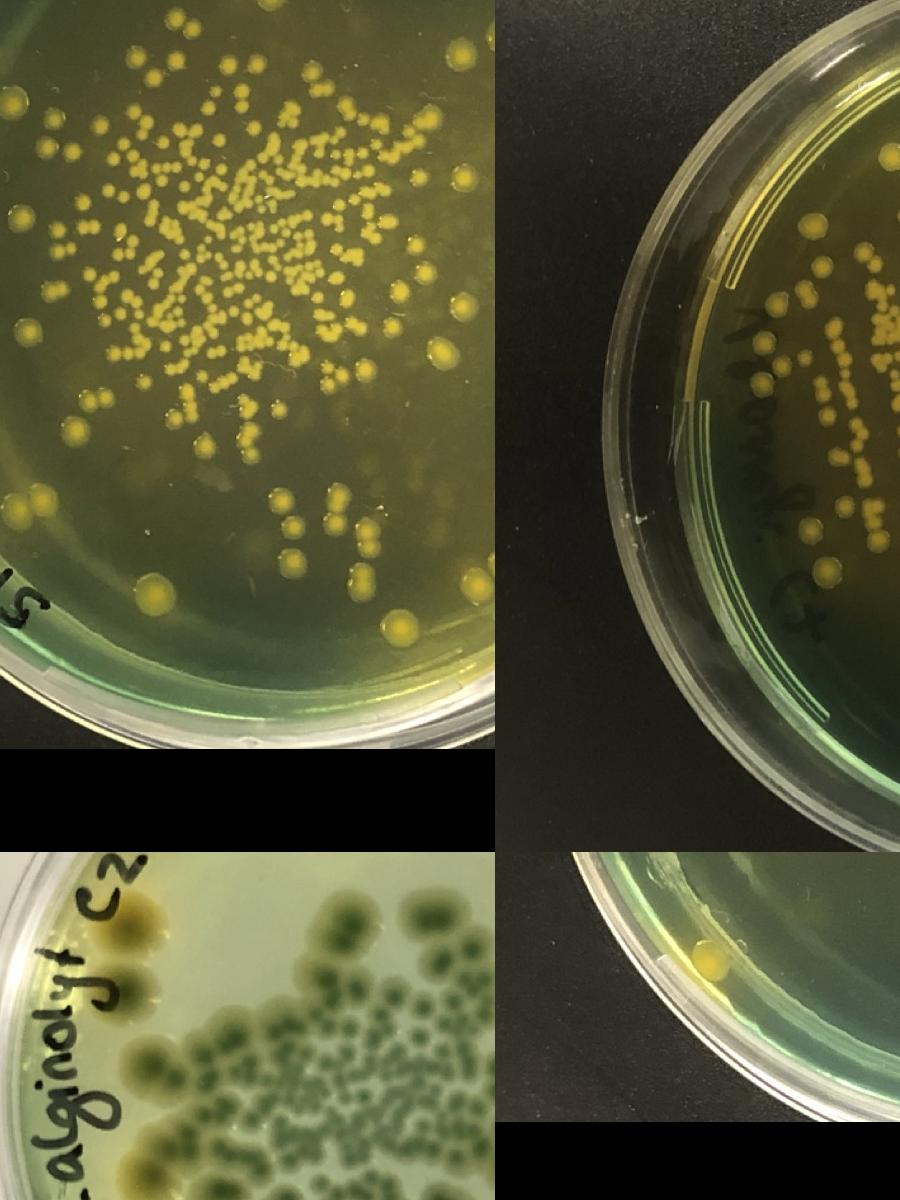sinniae: (456, 546, 495, 606), (2, 485, 57, 526), (267, 488, 308, 542), (104, 322, 152, 361), (310, 148, 354, 189), (379, 609, 420, 649), (132, 574, 172, 614), (267, 215, 298, 265), (255, 131, 286, 177), (238, 391, 265, 440), (164, 7, 204, 40), (318, 361, 353, 397), (302, 59, 336, 96), (348, 560, 376, 603), (354, 515, 382, 557), (127, 103, 156, 141), (78, 386, 118, 413), (111, 223, 140, 260), (93, 270, 120, 309), (60, 416, 92, 446), (446, 39, 476, 70), (328, 242, 366, 266), (12, 318, 42, 348), (6, 202, 36, 232), (394, 125, 426, 153), (278, 339, 310, 367), (150, 160, 182, 188), (0, 88, 27, 119), (334, 314, 370, 337), (452, 164, 480, 192), (450, 292, 478, 320), (417, 103, 445, 131), (326, 478, 354, 506), (322, 511, 350, 539), (278, 548, 306, 576), (310, 125, 346, 146), (208, 371, 240, 394), (430, 339, 456, 367), (291, 140, 306, 188), (100, 182, 132, 204), (226, 302, 253, 326), (124, 288, 144, 320), (278, 103, 302, 129), (115, 134, 139, 160), (294, 228, 317, 255), (348, 184, 376, 206), (358, 220, 382, 245), (172, 121, 206, 138), (232, 82, 250, 114), (319, 212, 345, 234), (242, 193, 266, 216), (50, 241, 78, 260), (164, 50, 188, 72), (406, 167, 430, 188), (414, 262, 436, 284), (388, 278, 410, 300), (382, 316, 404, 338), (355, 358, 377, 380), (268, 400, 290, 422), (246, 52, 268, 74), (240, 443, 262, 465), (217, 54, 239, 76), (194, 436, 216, 458), (89, 112, 111, 134), (46, 218, 68, 240), (43, 107, 65, 129), (39, 280, 61, 302), (36, 136, 58, 158), (244, 256, 264, 280), (164, 356, 188, 376), (338, 94, 356, 120), (220, 280, 246, 298), (144, 197, 160, 226), (405, 235, 427, 256), (164, 409, 186, 430), (142, 68, 164, 89), (125, 47, 147, 68), (62, 142, 84, 163), (204, 343, 228, 360), (352, 164, 376, 180), (148, 266, 163, 289), (246, 219, 264, 238), (243, 291, 262, 309), (338, 290, 356, 308), (327, 268, 345, 286), (245, 118, 263, 136), (76, 220, 103, 232), (377, 150, 399, 164), (188, 155, 210, 169), (271, 317, 290, 333), (381, 212, 399, 228), (210, 132, 228, 148), (208, 83, 224, 99), (200, 100, 216, 116), (138, 374, 154, 390), (136, 182, 152, 198), (104, 150, 120, 166), (178, 384, 196, 398), (258, 168, 273, 184), (76, 195, 92, 210), (82, 266, 96, 282), (196, 241, 206, 263), (332, 197, 346, 211), (310, 290, 324, 304), (258, 0, 286, 7), (194, 369, 208, 383), (158, 338, 172, 352), (157, 134, 171, 148), (178, 179, 191, 193), (378, 184, 392, 196), (374, 115, 388, 127), (360, 206, 374, 218), (356, 113, 370, 125), (214, 162, 228, 174)
valgino: (92, 893, 162, 955), (86, 961, 156, 1023), (187, 1169, 247, 1200), (440, 1150, 468, 1176)
vharveyi: (690, 941, 730, 979), (870, 342, 900, 373), (854, 240, 882, 270), (815, 556, 843, 586), (872, 312, 896, 346), (840, 366, 858, 408), (822, 318, 844, 352), (808, 254, 836, 278), (748, 372, 774, 397), (750, 330, 777, 354), (864, 280, 896, 300), (800, 213, 826, 237), (764, 292, 790, 316), (854, 458, 874, 488), (877, 144, 900, 168), (814, 375, 832, 403), (868, 531, 890, 553), (834, 496, 856, 518), (825, 444, 847, 466), (818, 405, 840, 427), (800, 520, 822, 542), (771, 356, 793, 378), (889, 367, 900, 410), (794, 348, 816, 368), (850, 416, 869, 438), (802, 290, 822, 310), (861, 500, 887, 512), (876, 299, 888, 311), (868, 516, 880, 528), (852, 439, 864, 451), (840, 353, 852, 365)
